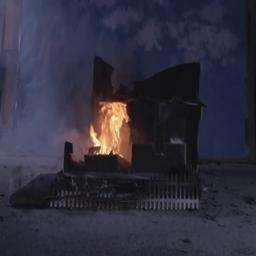fire: (79, 92, 132, 166)
